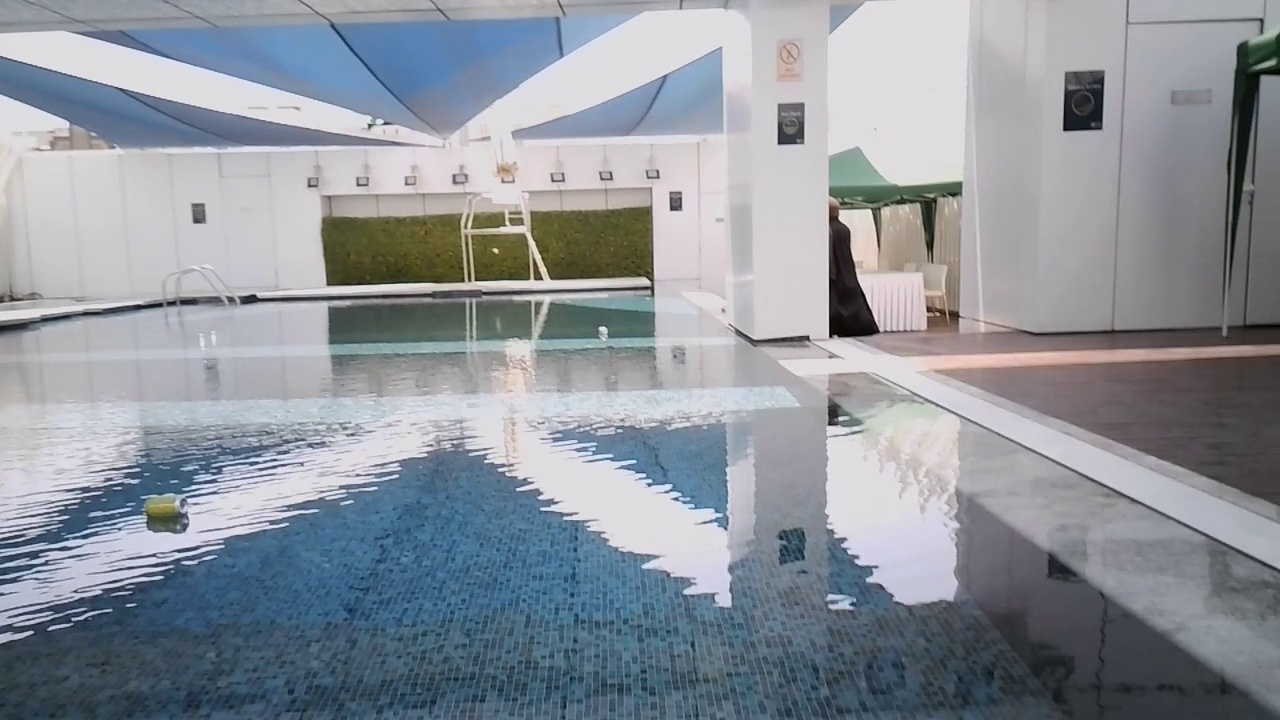debris: (138, 491, 192, 526), (598, 322, 611, 337)
